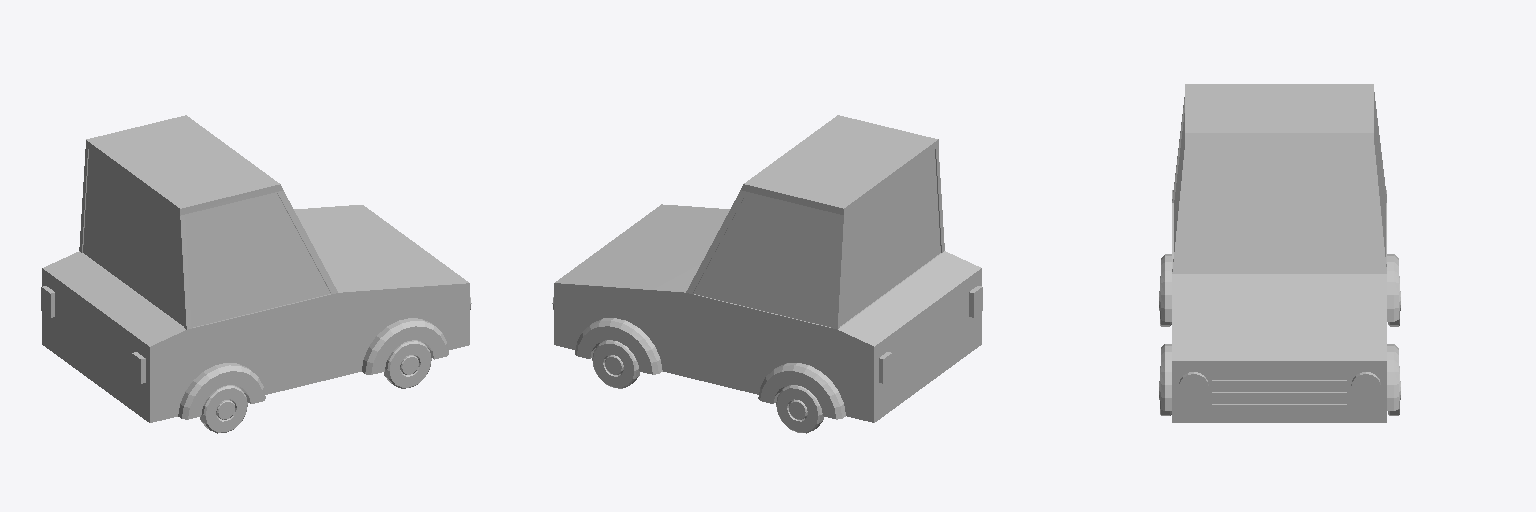
Rendered from lowpolycar.obj.
3 renders of one model, left to right at view 1: azimuth 30°, elevation 25°; view 2: azimuth 150°, elevation 25°; view 3: azimuth 270°, elevation 25°, orthographic.
Parts seen in each view (by area): view 1: Cabin, glass, wheels, rearlights; view 2: Cabin, glass, wheels, rearlights; view 3: Cabin, glass, headlights.
Part boxes in pixels (x1,y1,x2,y2): Cabin: (42, 115, 469, 422); glass: (83, 149, 330, 327); wheels: (200, 340, 431, 433); rearlights: (41, 286, 145, 383); Cabin: (554, 115, 981, 422); glass: (693, 149, 940, 327); wheels: (592, 340, 823, 433); rearlights: (879, 286, 982, 383); Cabin: (1161, 84, 1398, 422); glass: (1174, 101, 1385, 273); headlights: (1179, 372, 1380, 400).
Bounding box in the file's own units: 3.55 × 2.3 × 2.25.